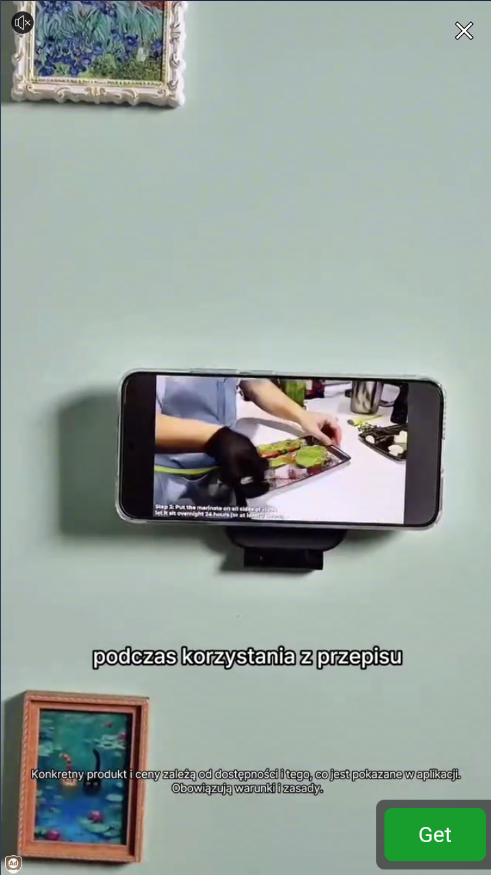close_button: (449, 16, 481, 45)
